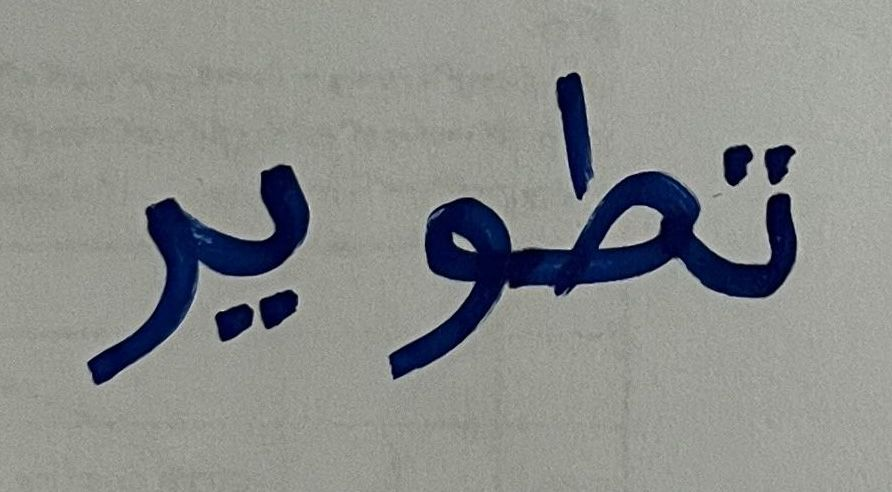reh: (36, 171, 203, 394)
tah: (530, 52, 709, 355)
teh: (713, 119, 823, 338)
waw: (354, 162, 524, 393)
yeh: (211, 134, 331, 364)
